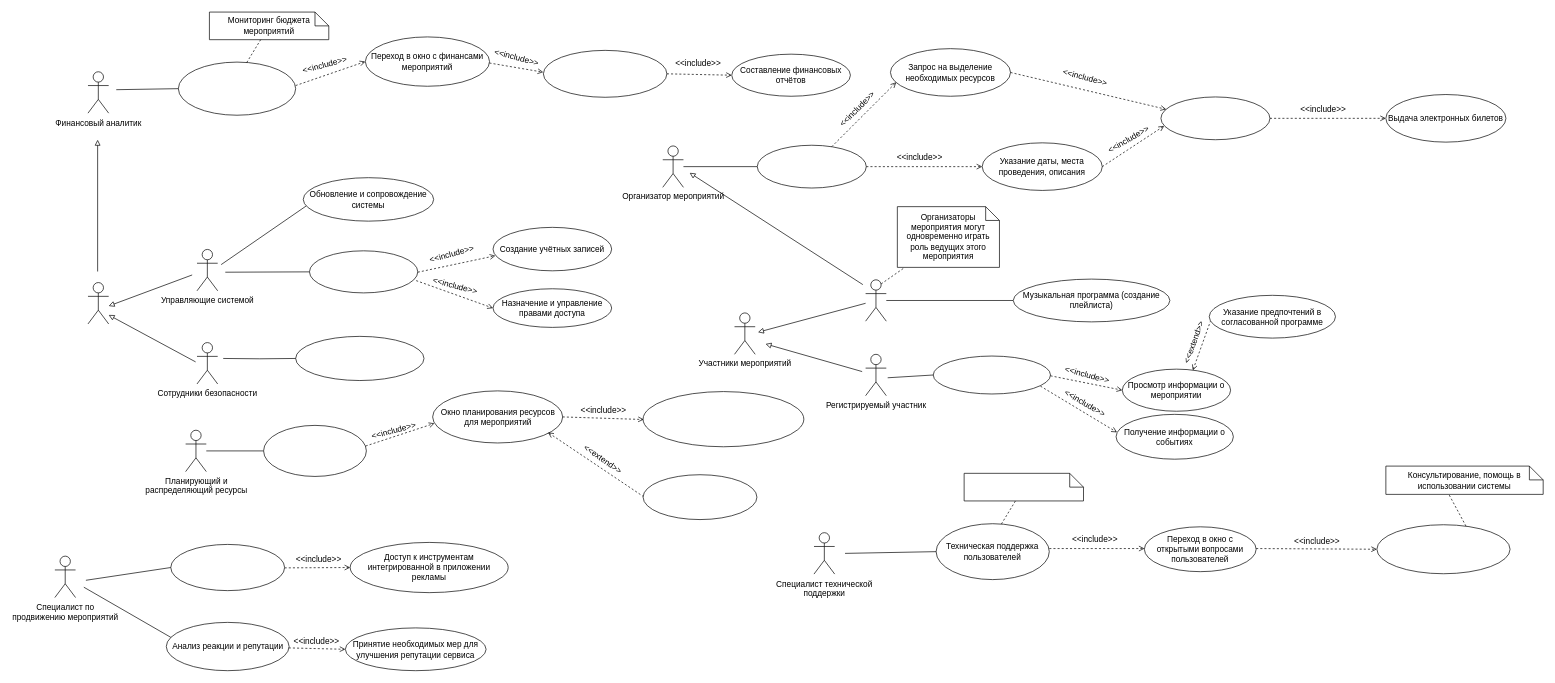
The diagram is 1555 pixels wide and 683 high, and some of its shapes have lost their labels. The centre of each missing label's shape, as x and y in pixels:
"Администраторы" belongs at (98,303).
"Бронирование залов, оборудования, персонала для определённого мероприятия" belongs at (723,419).
"Ведущий мероприятия" belongs at (875,300).
"Мониторинг финансов" belongs at (237,88).
"Обеспечение безопасности системы" belongs at (359,358).
"Оптимизация распределения ресурсов" belongs at (699,497).
"Ответы на часто задаваемые вопросы" belongs at (1443,549).
"Продвижение мероприятий" belongs at (227,567).
"Просмотр информации доходов и расходов о конкретном мероприятии" belongs at (605,73).
"Регистрация на мероприятие" belongs at (992,374).
"Регистрация участников" belongs at (1215,118).
"Решение их технических проблем" belongs at (1023,487).
"Создание мероприятий" belongs at (811,166).
"Управление доступностью ресурсов" belongs at (314,450).
"Управление пользователями" belongs at (363,271).
